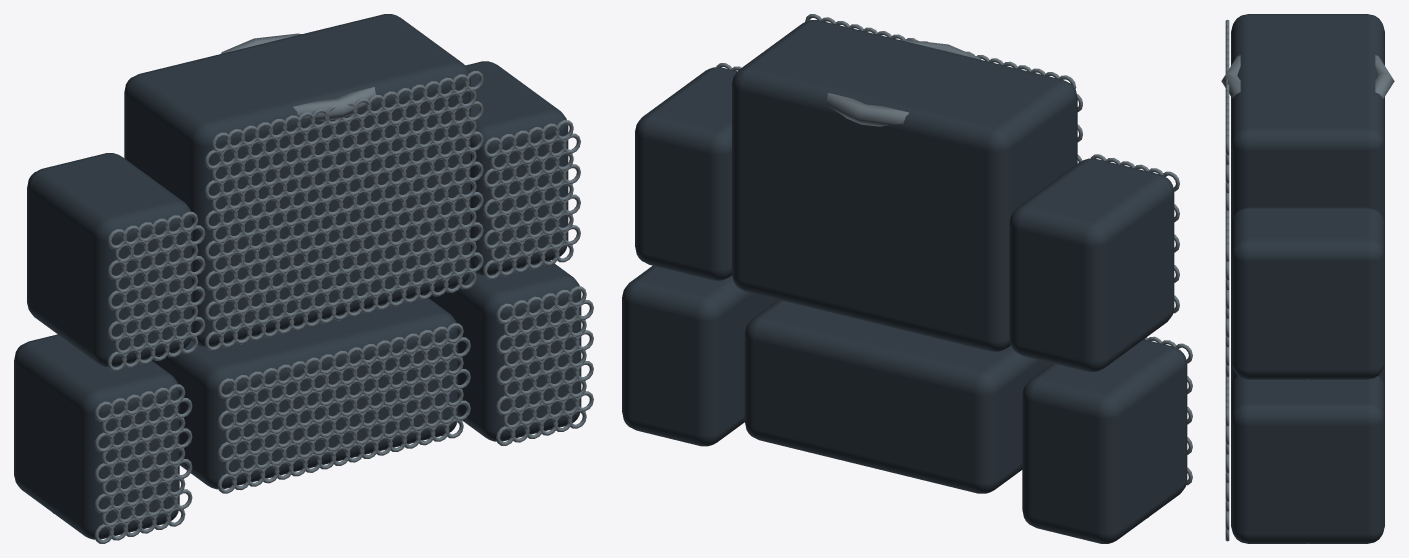
The model's file is armor-chainshirt.glb.
The picture shows the model from 3 angles, left to right: view 1: azimuth 30°, elevation 25°; view 2: azimuth 150°, elevation 25°; view 3: azimuth 270°, elevation 25°; orthographic projection. The views are drawn at different scales.
Visible parts, largest first — view 1: chainmail-underlayer (×6), chainmail-ring (×6), chainmail-neck-ring; view 2: chainmail-underlayer (×6), chainmail-ring (×2), chainmail-neck-ring; view 3: chainmail-underlayer (×3), chainmail-ring (×3), chainmail-neck-ring.
Part boxes in pixels (x1=…): chainmail-underlayer (×6): x1=14, y1=14, x2=581, y2=539; chainmail-ring (×6): x1=94, y1=71, x2=593, y2=543; chainmail-neck-ring: x1=221, y1=33, x2=376, y2=120; chainmail-underlayer (×6): x1=622, y1=20, x2=1187, y2=543; chainmail-ring (×2): x1=805, y1=14, x2=1179, y2=313; chainmail-neck-ring: x1=825, y1=39, x2=981, y2=126; chainmail-underlayer (×3): x1=1231, y1=14, x2=1384, y2=543; chainmail-ring (×3): x1=1225, y1=19, x2=1229, y2=541; chainmail-neck-ring: x1=1221, y1=55, x2=1394, y2=98.
Size of the model in its own units: 0.776 by 0.575 by 0.248.
